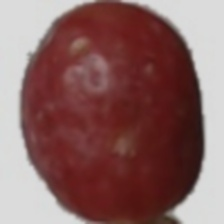grapes: (19, 9, 212, 201)
